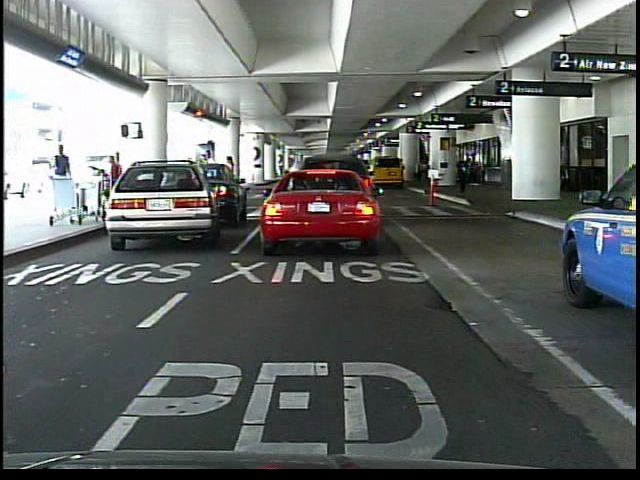person: (52, 143, 76, 217), (202, 147, 219, 224), (282, 152, 300, 205), (198, 153, 214, 204), (457, 154, 472, 194), (417, 155, 428, 187)
